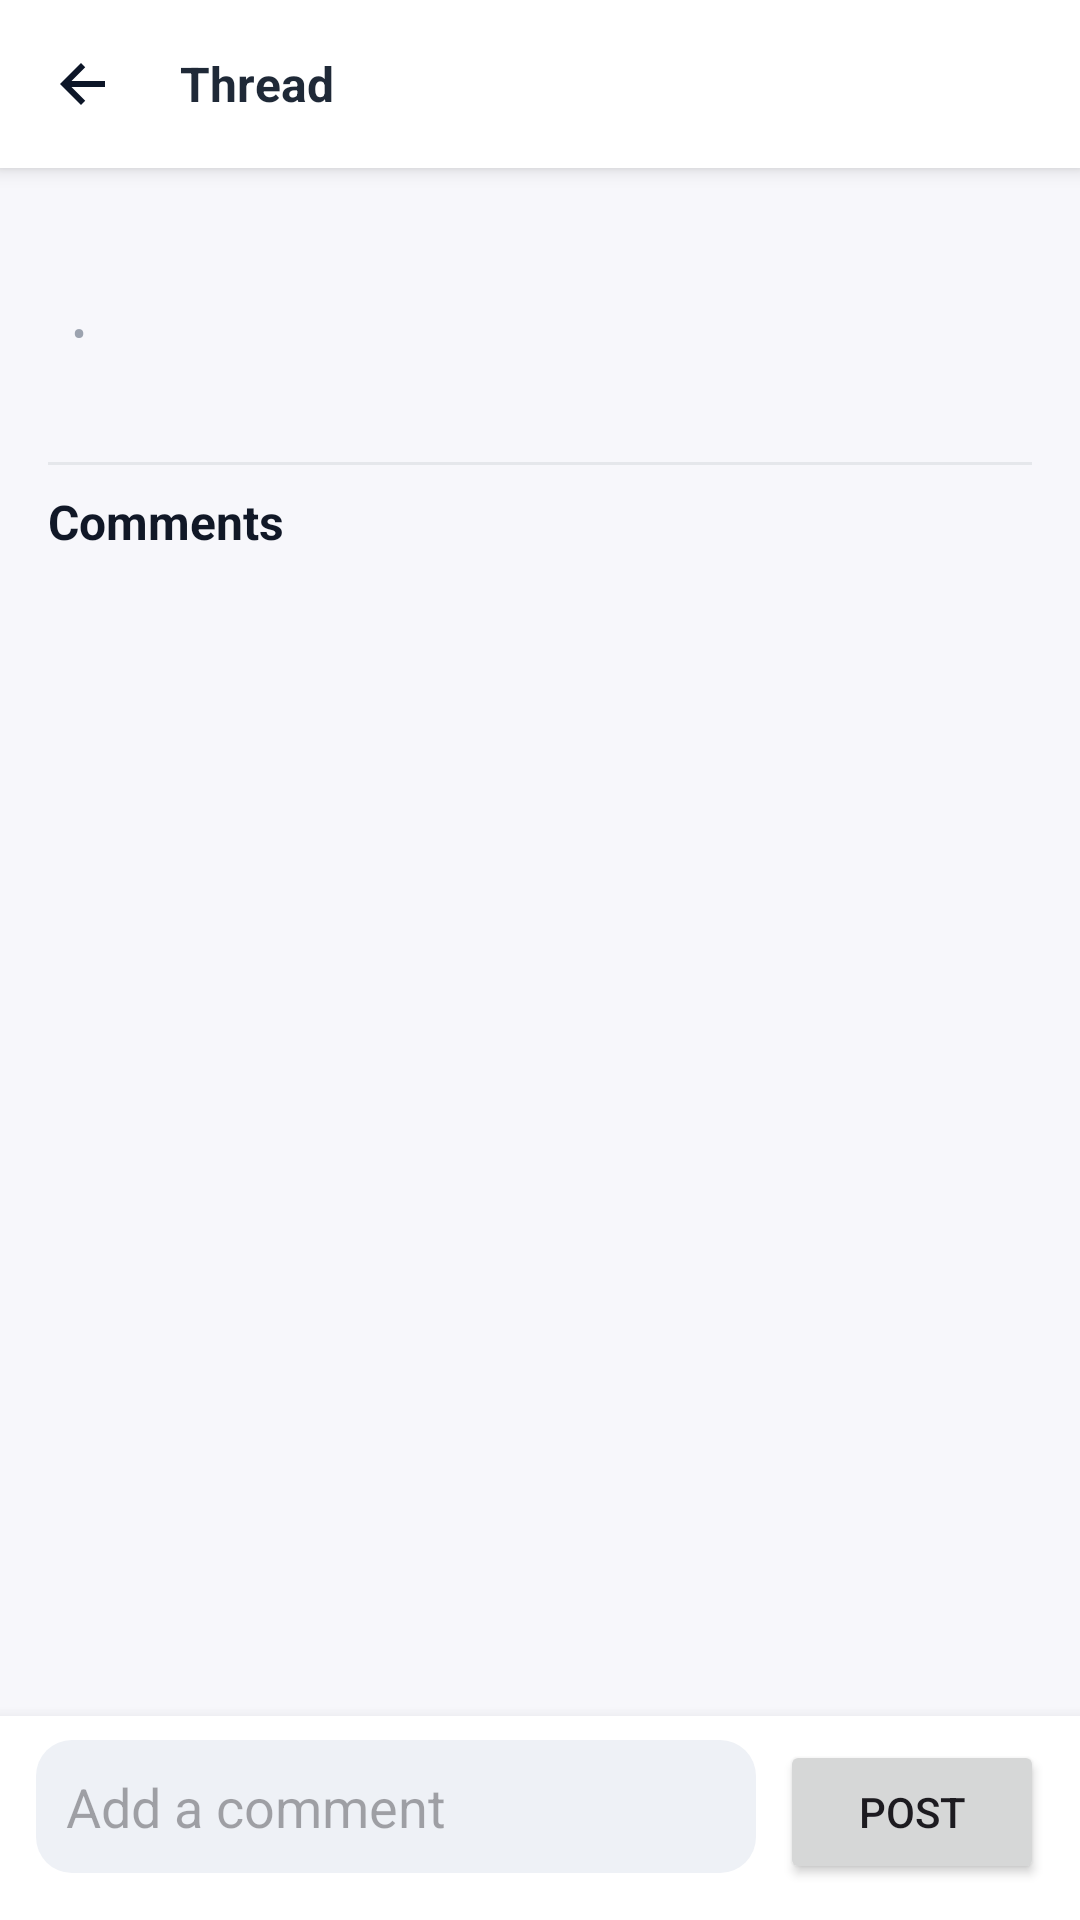

Point at icon controls on the screen. Image size 1080 × 1920, points as (x=x, y=y).
Back: (x=82, y=84)
